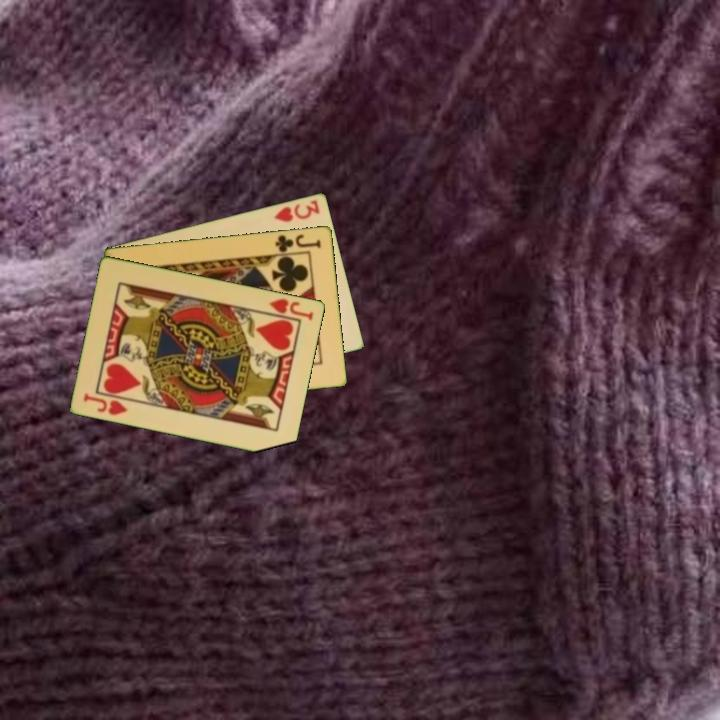3h: (271, 196, 323, 225)
Jc: (271, 231, 324, 257)
Jh: (260, 295, 317, 323), (80, 389, 131, 418)
